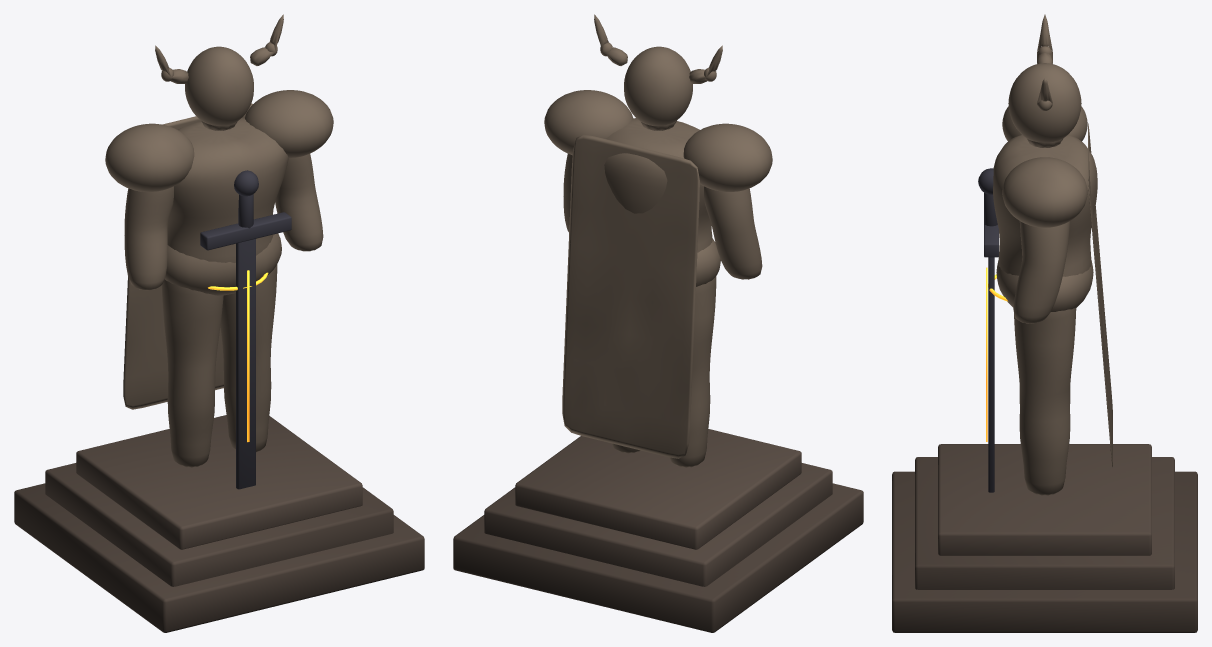
File: statue.glb
The picture shows the model from 3 angles, left to right: view 1: azimuth 30°, elevation 25°; view 2: azimuth 150°, elevation 25°; view 3: azimuth 270°, elevation 25°; orthographic projection.
Visible parts, largest first — view 1: statue_body, statue_plinth, statue_sword, statue_runes; view 2: statue_body, statue_plinth; view 3: statue_plinth, statue_body, statue_sword, statue_runes.
Boxes of the visible parts, left/top/right/bottom form: statue_body: left=105, top=14, right=333, bottom=467; statue_plinth: left=14, top=415, right=424, bottom=632; statue_sword: left=200, top=170, right=291, bottom=489; statue_runes: left=208, top=270, right=268, bottom=442; statue_body: left=544, top=14, right=772, bottom=467; statue_plinth: left=453, top=429, right=863, bottom=632; statue_plinth: left=892, top=444, right=1197, bottom=632; statue_body: left=993, top=14, right=1112, bottom=495; statue_sword: left=978, top=168, right=998, bottom=492; statue_runes: left=986, top=267, right=1007, bottom=441.
Size of the model in its own units: 8 by 15.12 by 8.
